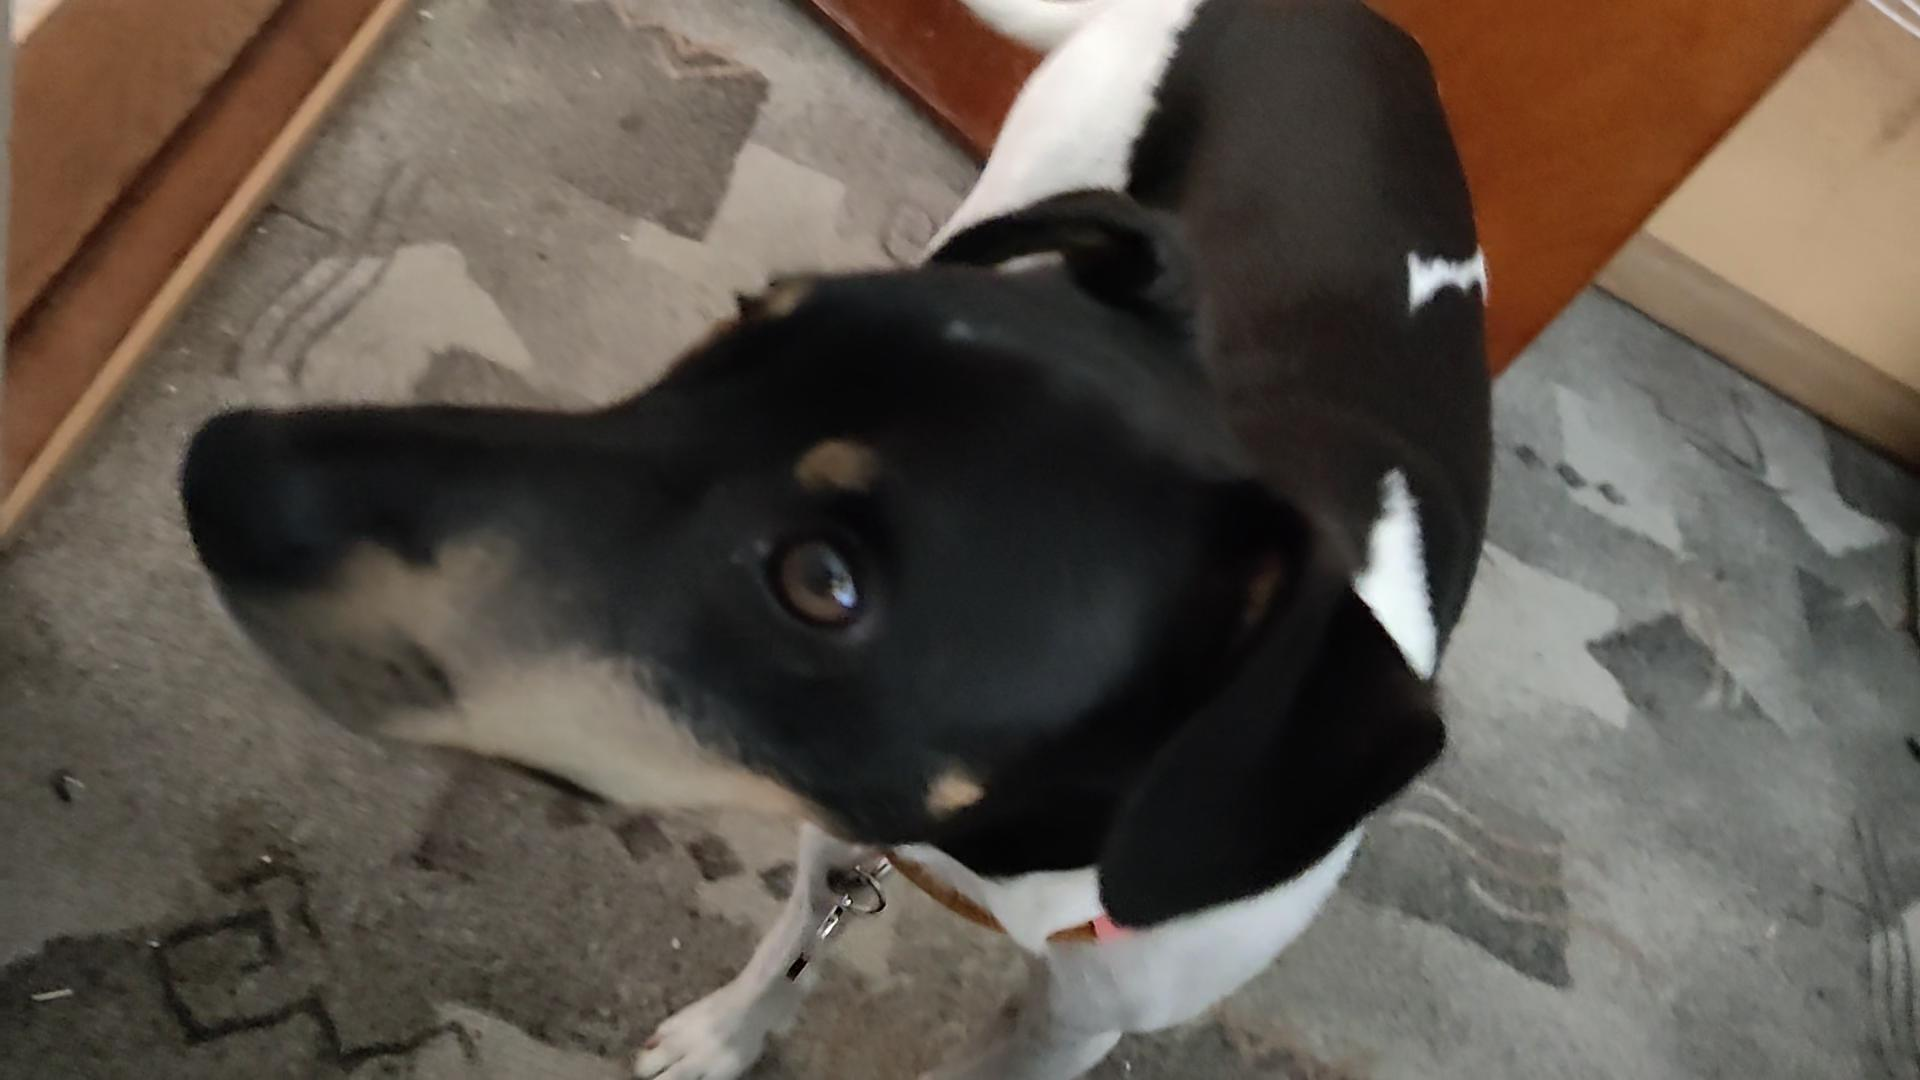Dog: (136, 0, 1549, 1080)
